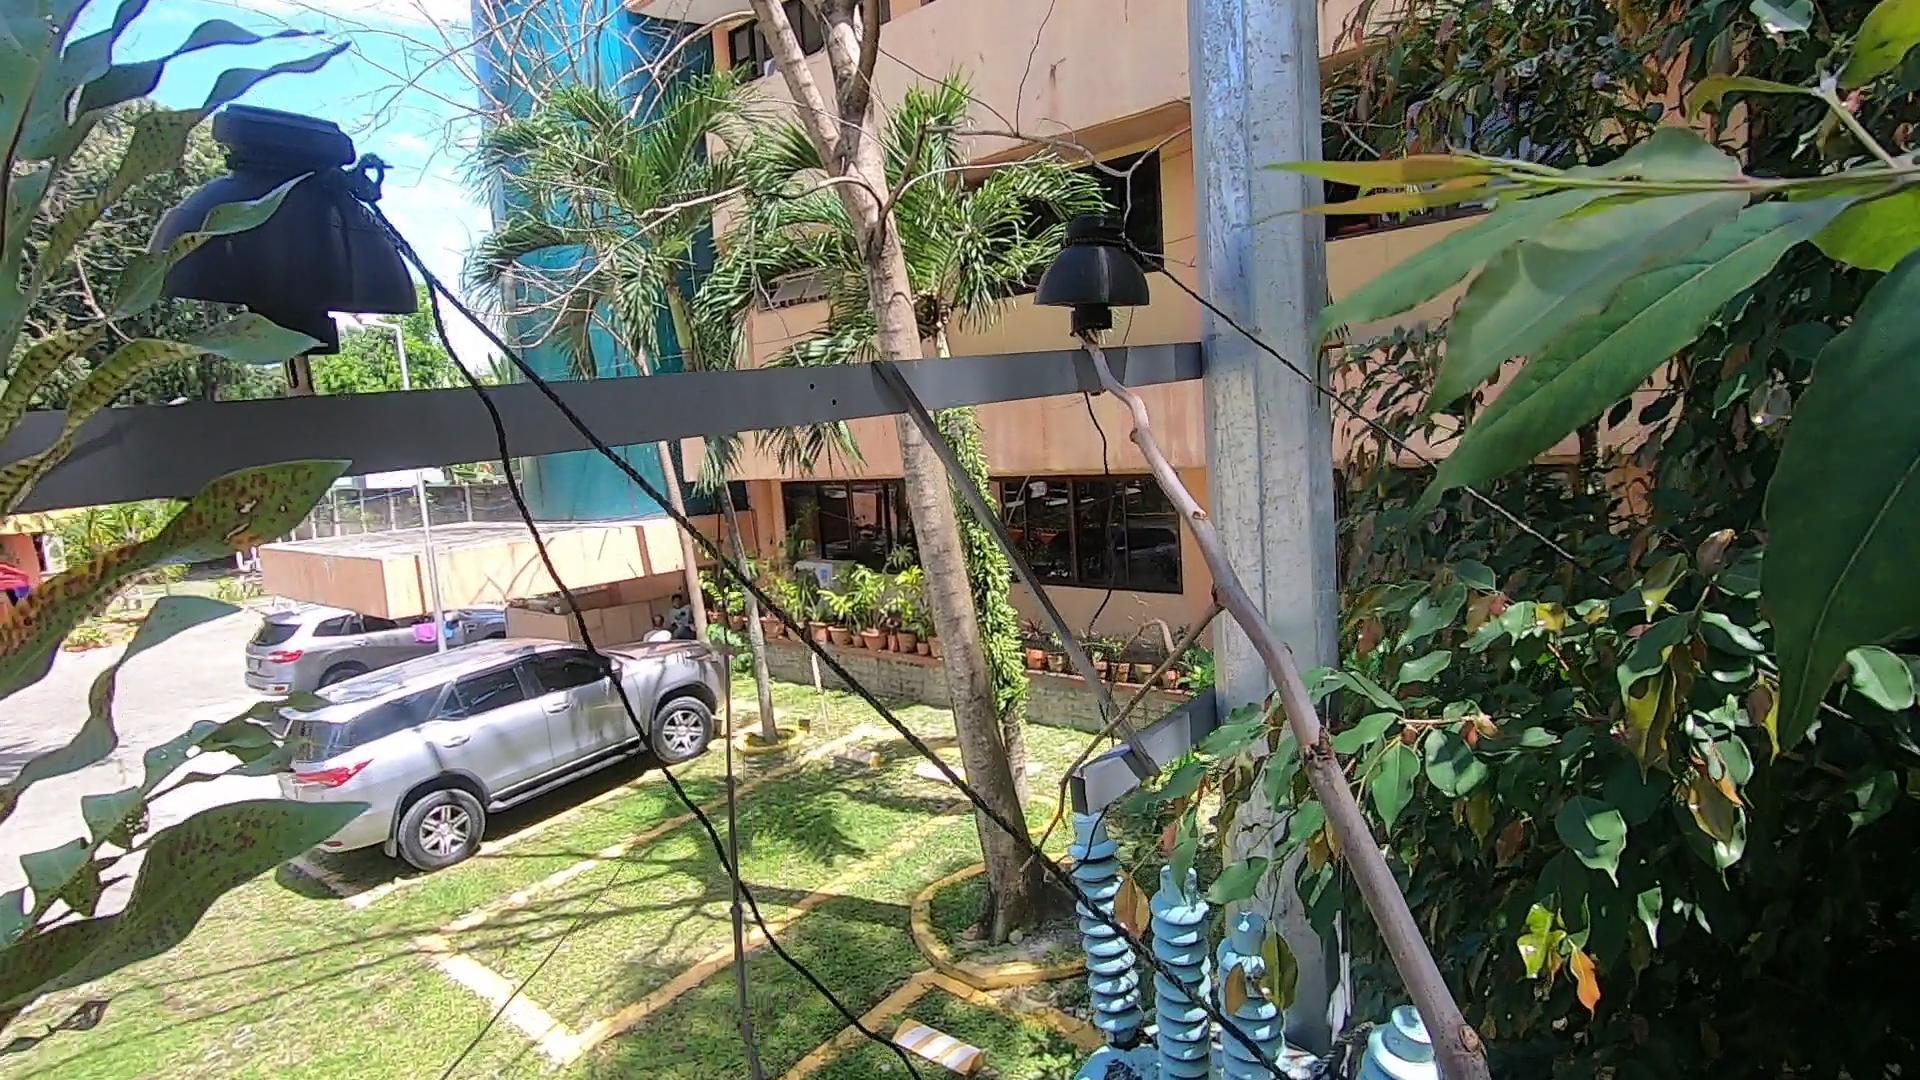branch with leaves: (1127, 728, 1337, 1077)
leaf: (8, 11, 375, 992)
tree branch: (1029, 284, 1506, 1080)
